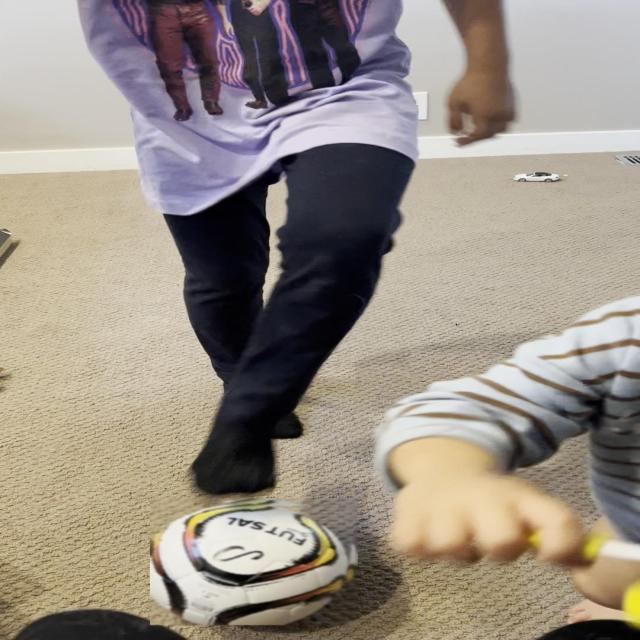ball: (150, 498, 358, 626)
